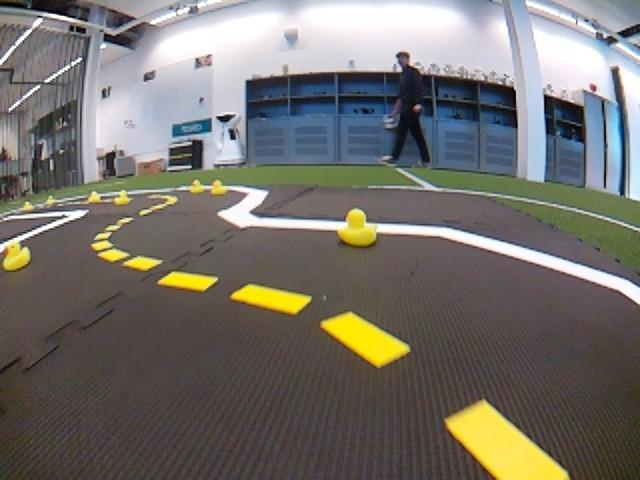Duckies: (337, 209, 375, 247), (1, 240, 31, 271), (114, 190, 131, 204), (210, 180, 226, 194), (190, 180, 205, 193), (86, 191, 101, 203), (23, 201, 33, 210), (46, 195, 56, 204)
